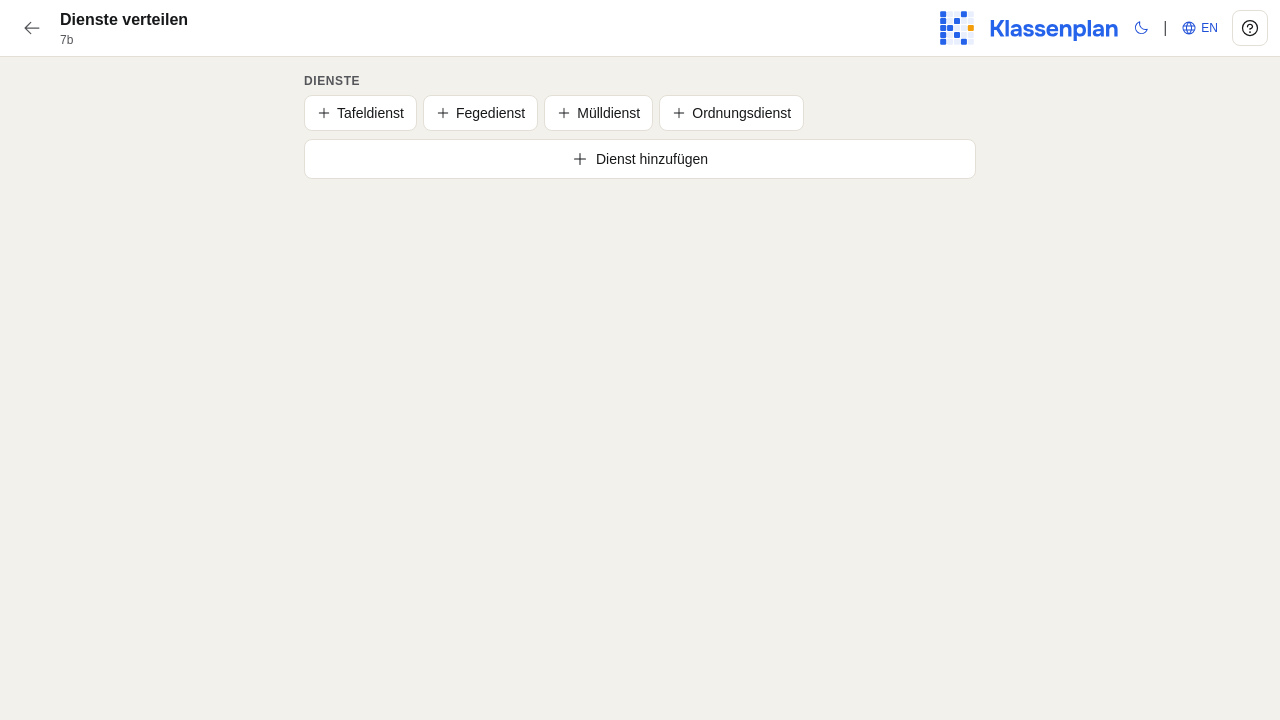
Dienste verteilen › hands out a suggested duty and keeps it for the class
This screenshot has width=1280, height=720.
Click the button "Tafeldienst": (360, 113) [304, 95, 417, 131]
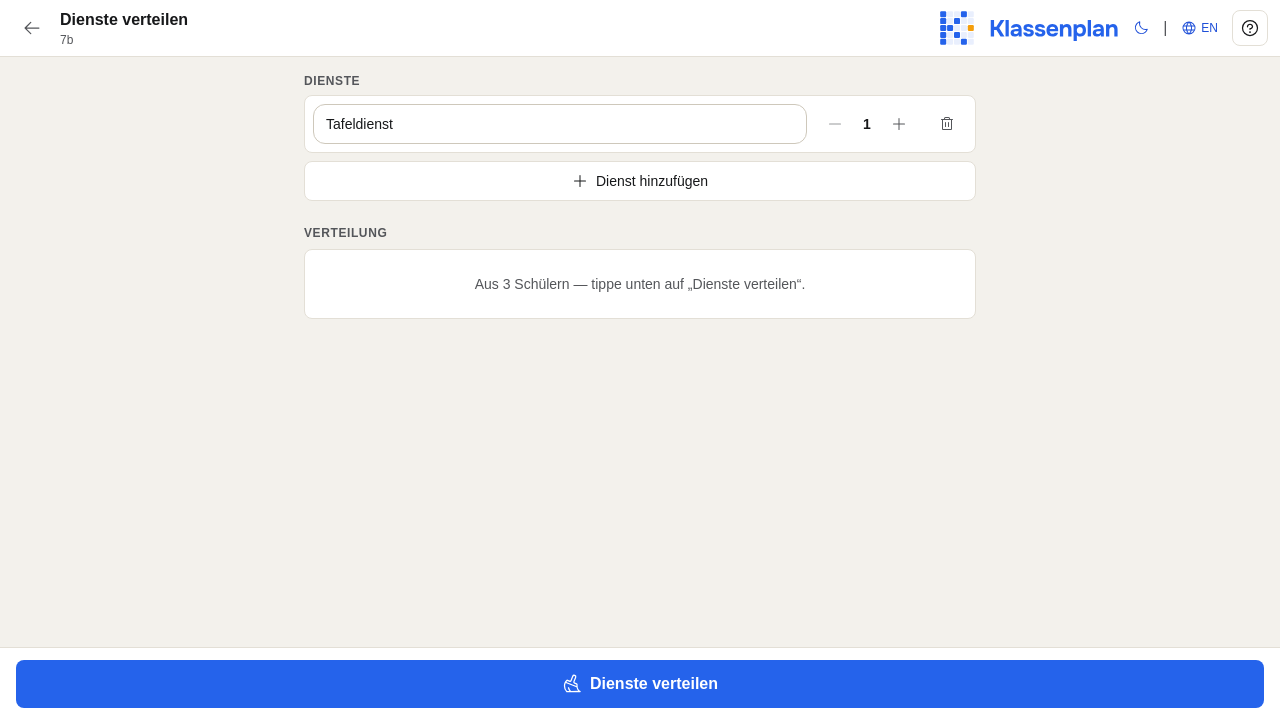
Click the button "Dienste verteilen": (640, 684) [16, 660, 1264, 708]
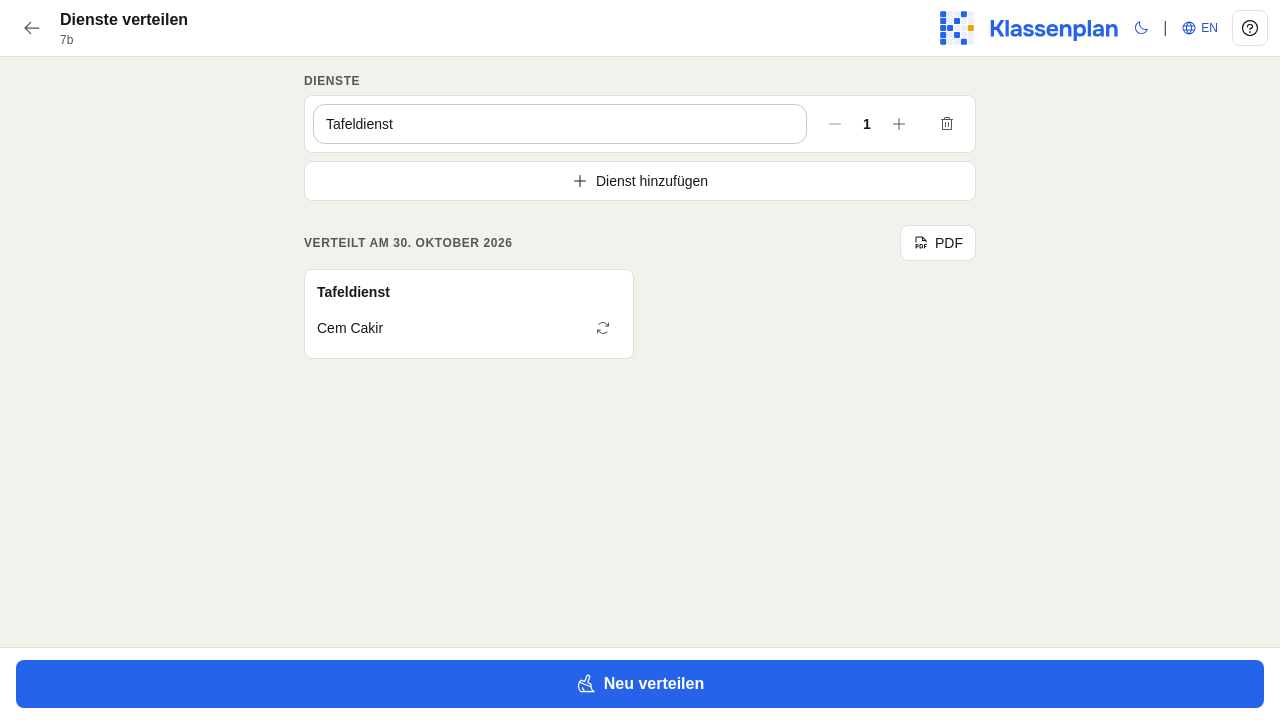
expect the list item "Tafeldienst Cem Cakir" is shown: met, box [304, 269, 634, 359]
